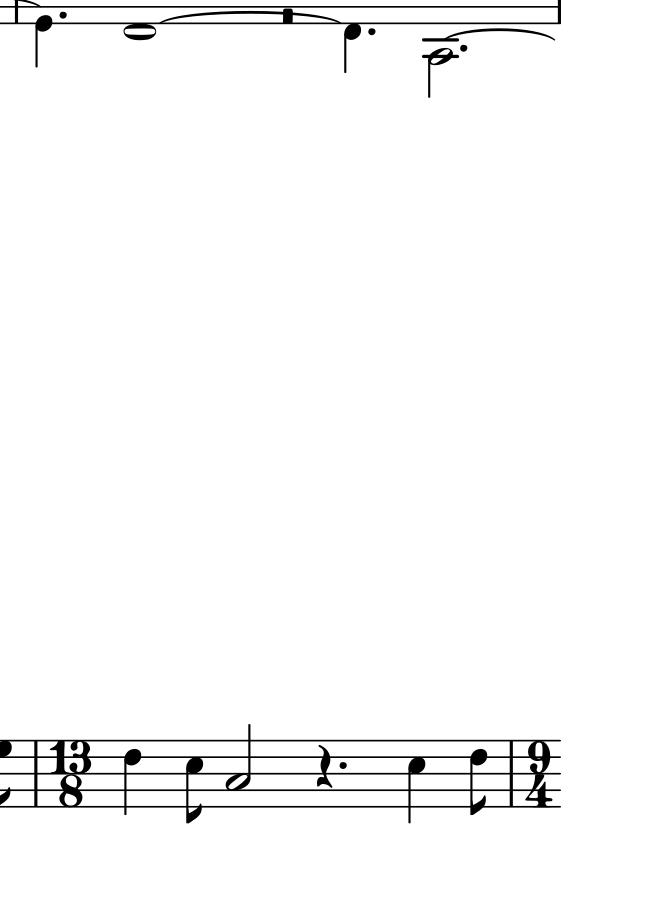1: (47, 739, 70, 775)
2_3: (226, 721, 253, 809)
3: (68, 740, 92, 774)
4: (525, 773, 554, 808)
4_5: (406, 739, 427, 825)
4_6: (122, 738, 143, 819)
8: (57, 773, 84, 808)
8_5: (184, 740, 205, 824)
8_6: (469, 737, 491, 819)
9: (526, 739, 553, 775)
Rests4: (312, 741, 335, 790)
Single_barline: (27, 740, 48, 806), (503, 740, 522, 808)
Slur: (450, 28, 559, 40)
TimeSig: (50, 740, 93, 808), (522, 741, 554, 808)
dot: (53, 9, 70, 20), (365, 24, 378, 37), (459, 41, 470, 54), (337, 759, 347, 771)
